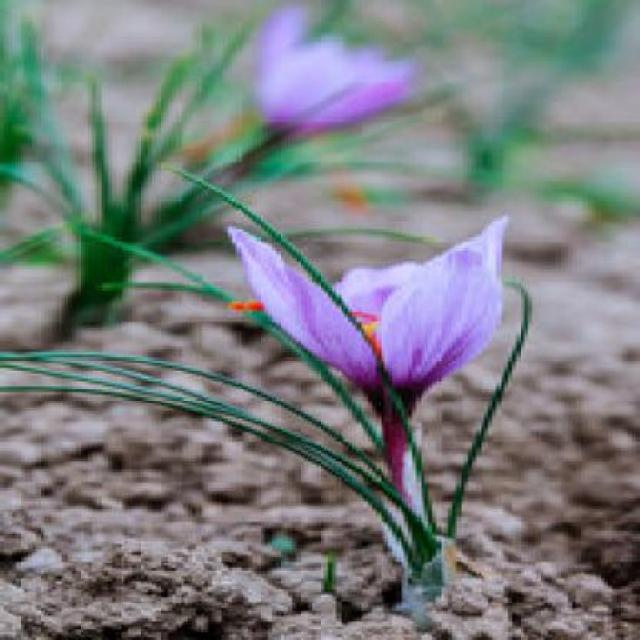Flower: (215, 220, 536, 426), (243, 7, 428, 148)
stigma: (340, 293, 387, 375), (216, 284, 266, 323)
